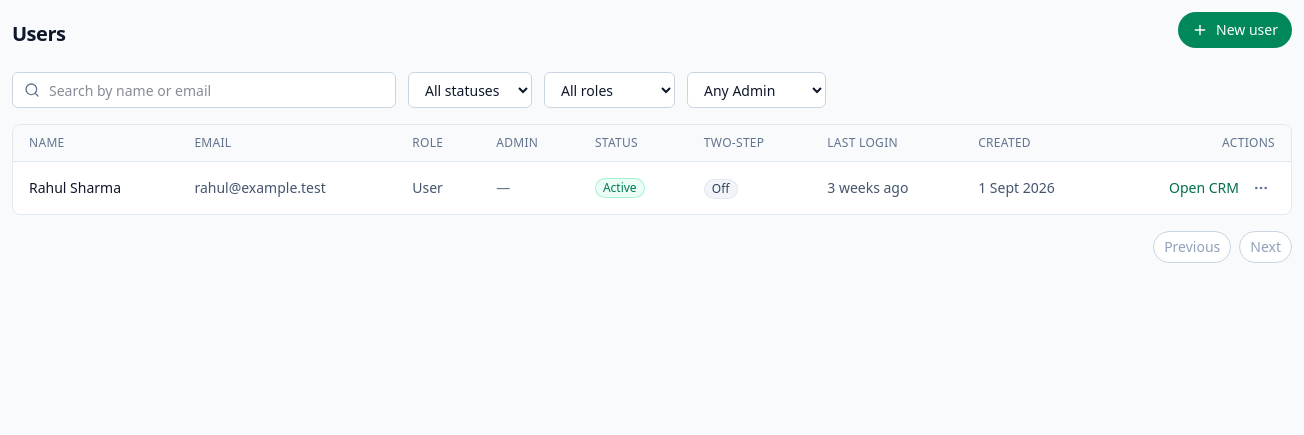
Test: UsersPage: states › offers to clear filters when nothing matches
Expected: the button "Rahul Sharma" is shown, [29,178,121,198]
Select "Deactivated" in the 1st dropdown named "Filter by status". click: coordinates (470, 90)
box: [408,72,532,108]
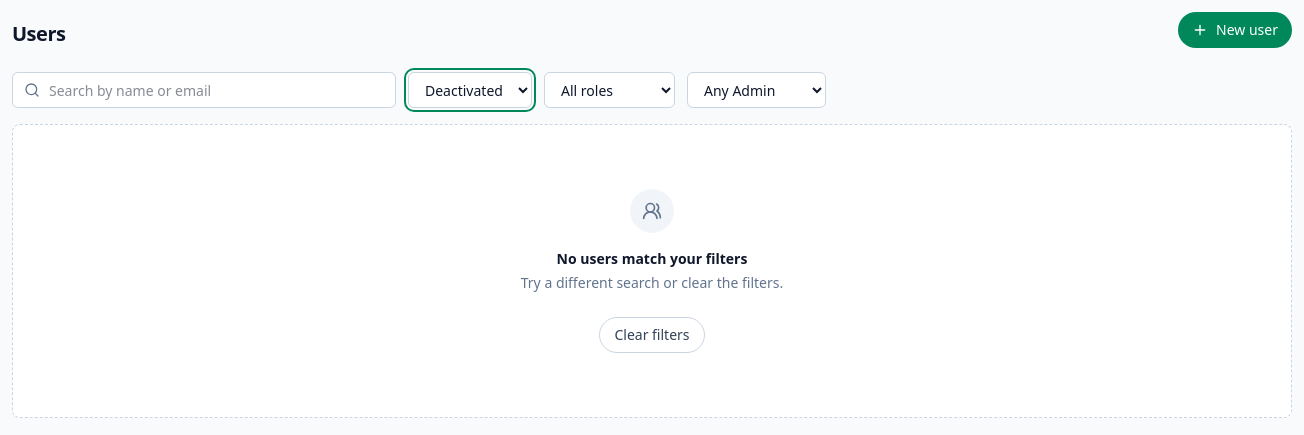
Now the heading "No users match your filters" is shown, box [557,249,747,269]
Click the button "Clear filters". click: coordinates (652, 335)
box: [599,317,704,353]
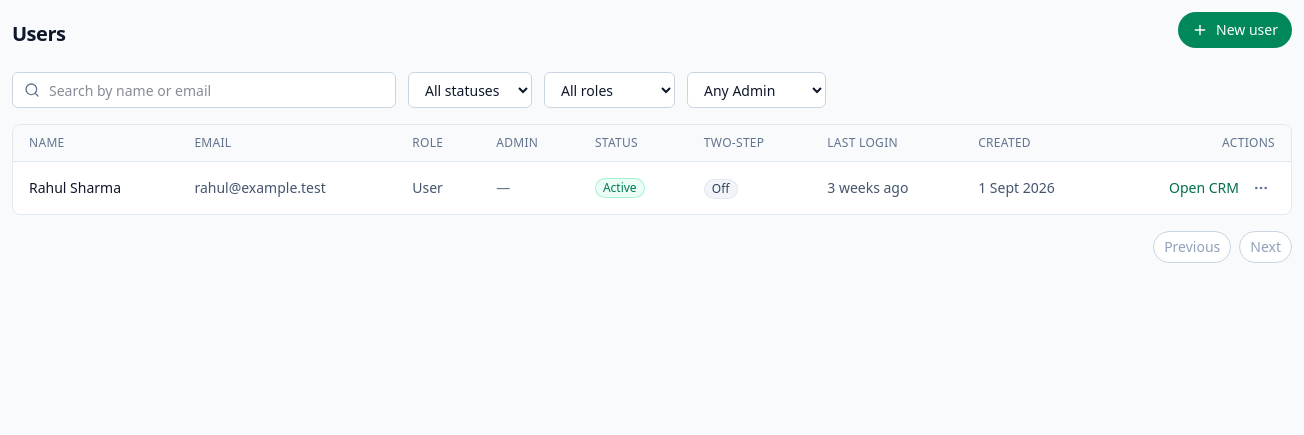
Now the button "Rahul Sharma" is shown, box [29,178,121,198]
